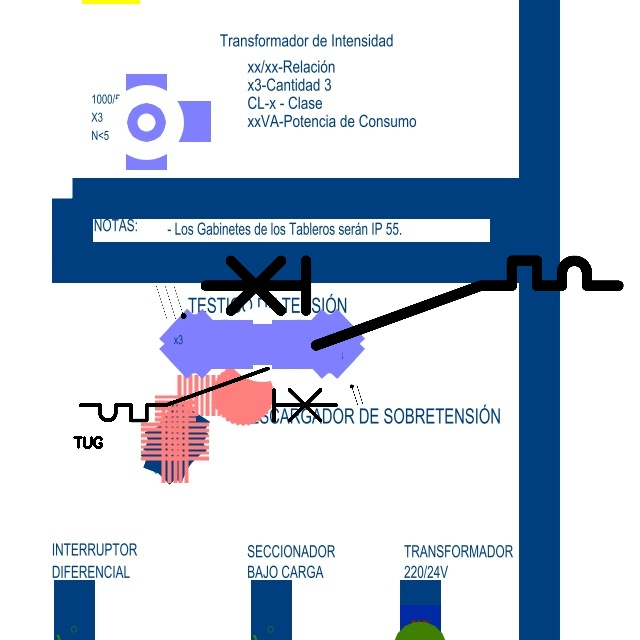interruptor_termomagnetico: (195, 250, 629, 356), (74, 362, 342, 427)
